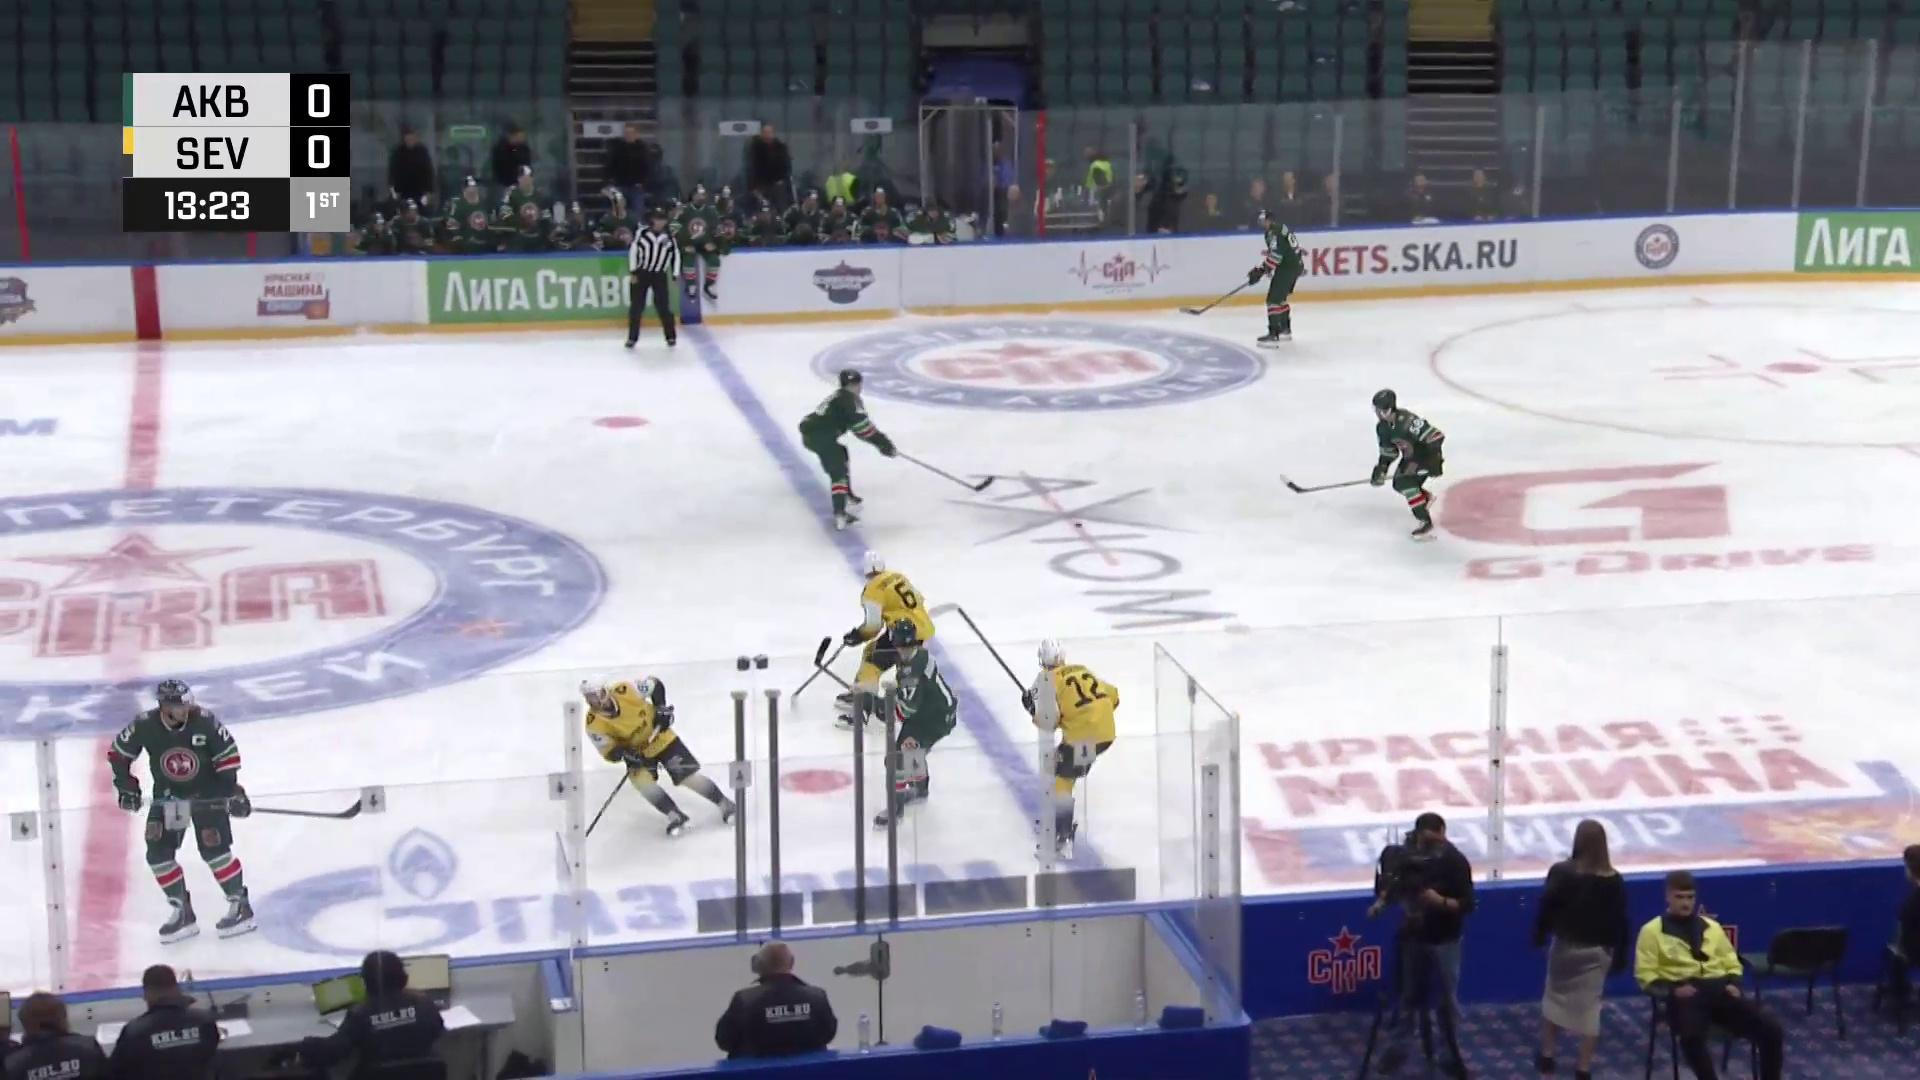ball: (1072, 521, 1083, 529)
